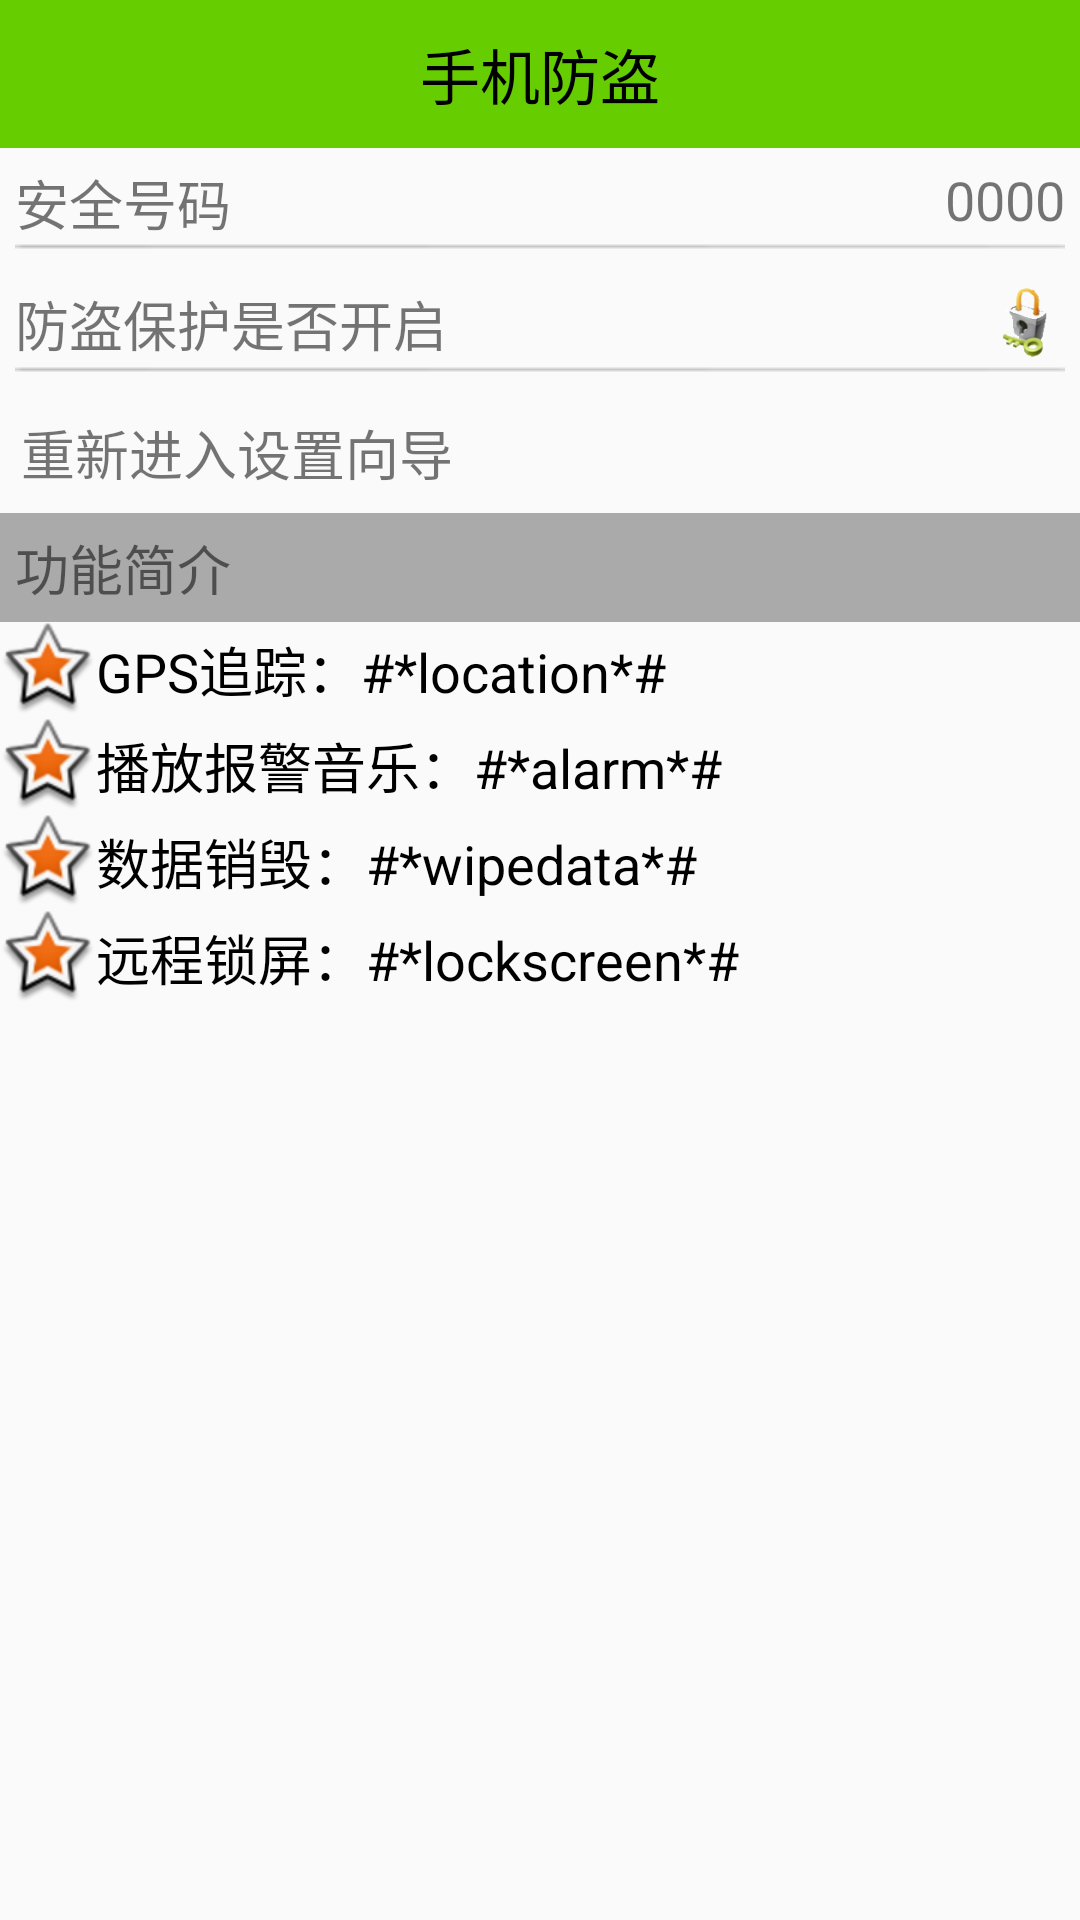

Where to tap for icons on this 1080x1920 app screen, as [x,y]:
lock: [1025,322]
